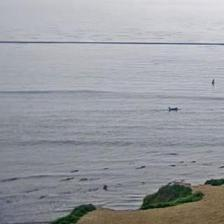surfer: (169, 106, 180, 111), (211, 78, 215, 84)
